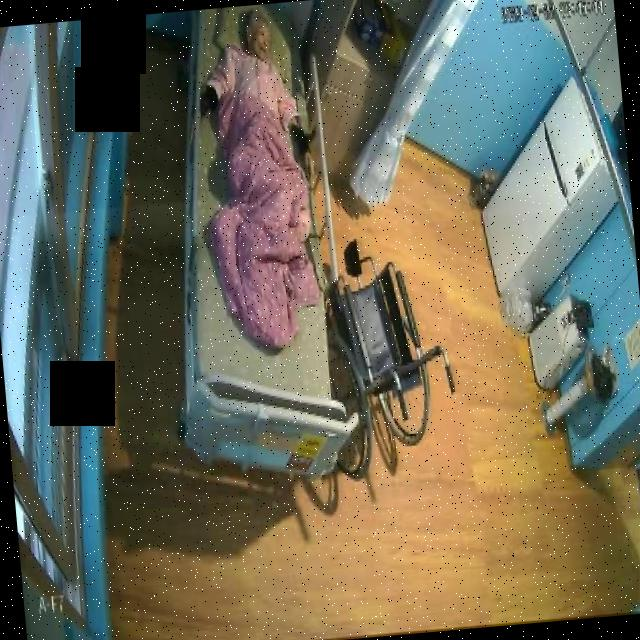bed: (151, 0, 349, 481)
lie: (188, 2, 328, 358)
patient: (190, 2, 316, 161)
